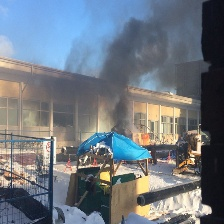smoke: (36, 1, 198, 130)
